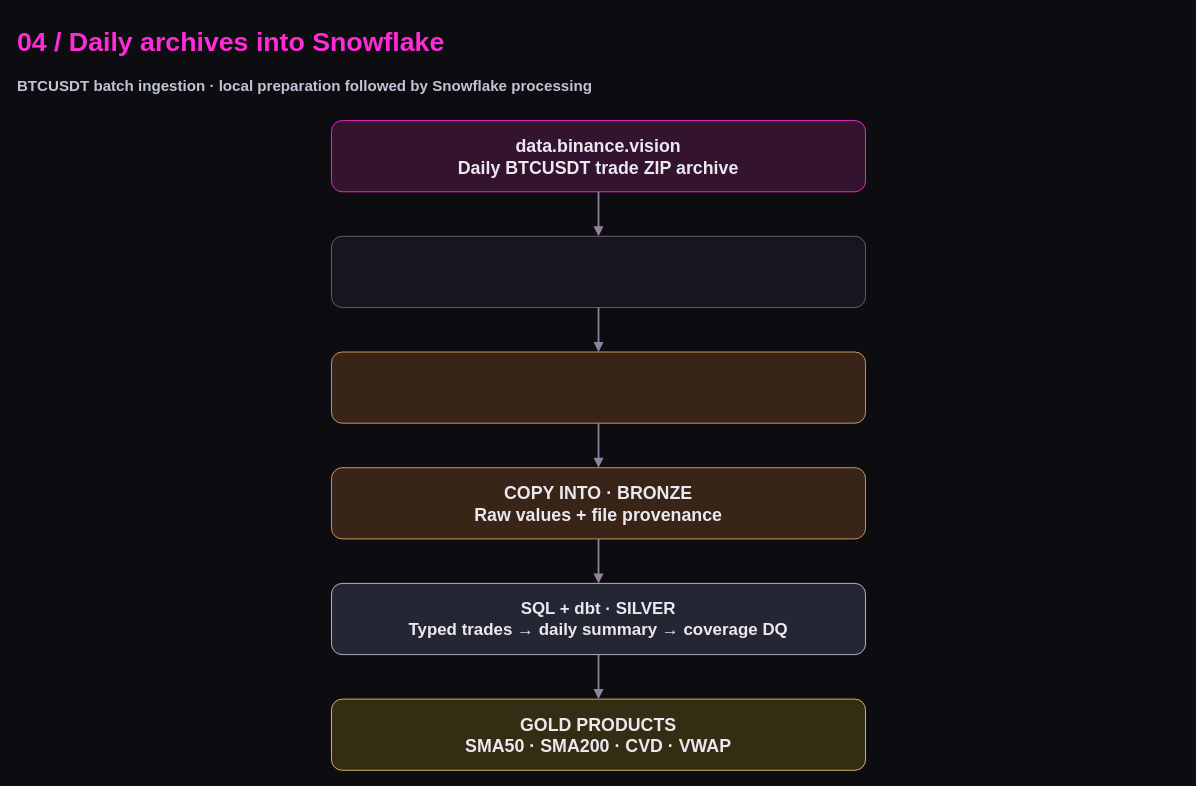
The diagram is 1196 pixels wide and 786 high, and some of its shapes have lost their labels. Here are the shapes that lost their labels. From the top down, the box of each, then its label:
(331, 235, 866, 307): LOCAL PYTHON Download ZIP → extract CSV → convert Parquet
(331, 351, 866, 423): LANDING_ZONE Upload daily Parquet archives
